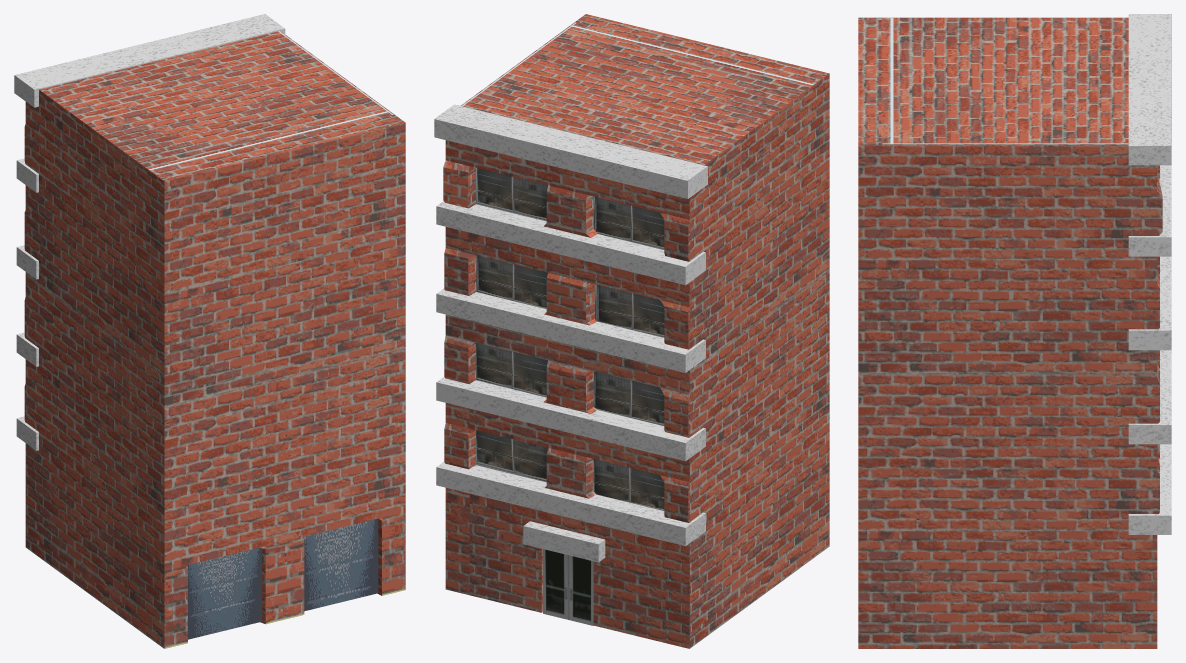
Rendered from buildingprototype.fbx.
3 renders of one model, left to right at view 1: azimuth 30°, elevation 25°; view 2: azimuth 150°, elevation 25°; view 3: azimuth 270°, elevation 25°, orthographic. The views are drawn at different scales.
Visible parts, largest first — view 1: building foundation, garage doors, barandal; view 2: building foundation, barandal, window, door; view 3: building foundation, barandal.
Boxes of the visible parts, x1,y1,x2,y2 form: building foundation: (24,31,405,648); garage doors: (188,518,378,639); barandal: (14,14,285,450); building foundation: (443,14,829,648); barandal: (434,104,707,562); window: (475,168,664,510); door: (543,549,593,625); building foundation: (858,17,1162,648); barandal: (1128,14,1171,534).
Size of the model in its own units: 364 by 652 by 365.
Materials: 5 (5 with a texture image).
